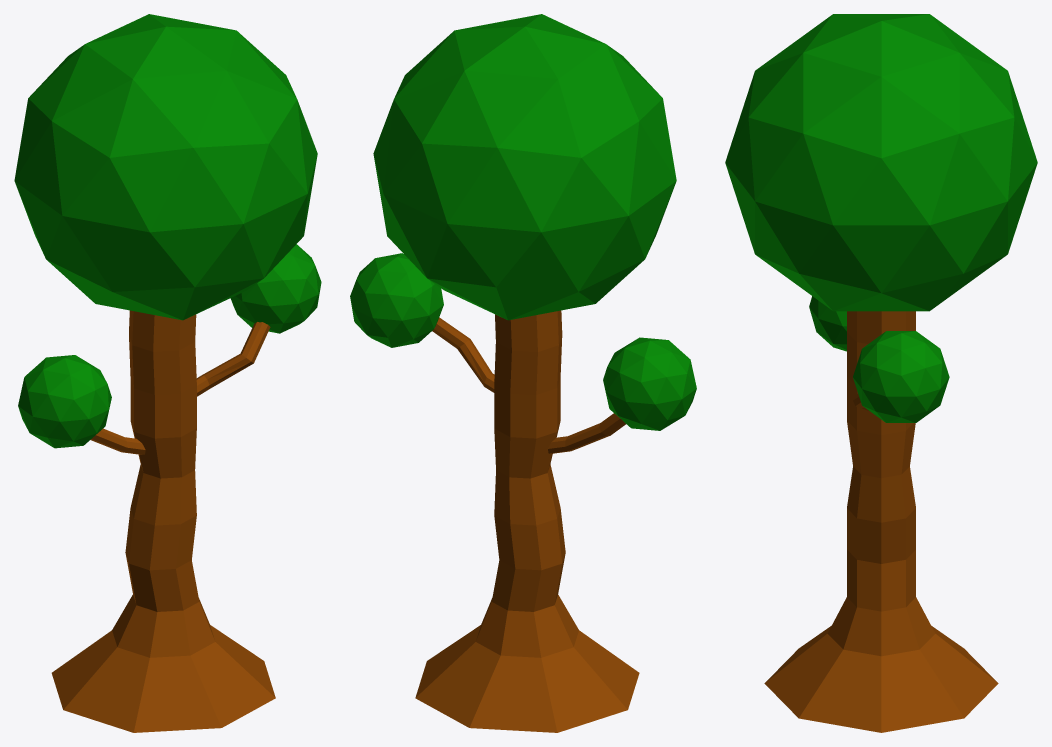
Rendered from LP_tree_testText.fbx.
The picture shows the model from 3 angles, left to right: view 1: azimuth 30°, elevation 25°; view 2: azimuth 150°, elevation 25°; view 3: azimuth 270°, elevation 25°; orthographic projection.
Parts seen in each view (by area): view 1: Tree; view 2: Tree; view 3: Tree.
Part boxes in pixels (x1,y1,x2,y2): Tree: (14, 14, 321, 732); Tree: (350, 14, 696, 732); Tree: (725, 14, 1037, 732).
Size of the model in its own units: 401 by 813 by 347.
